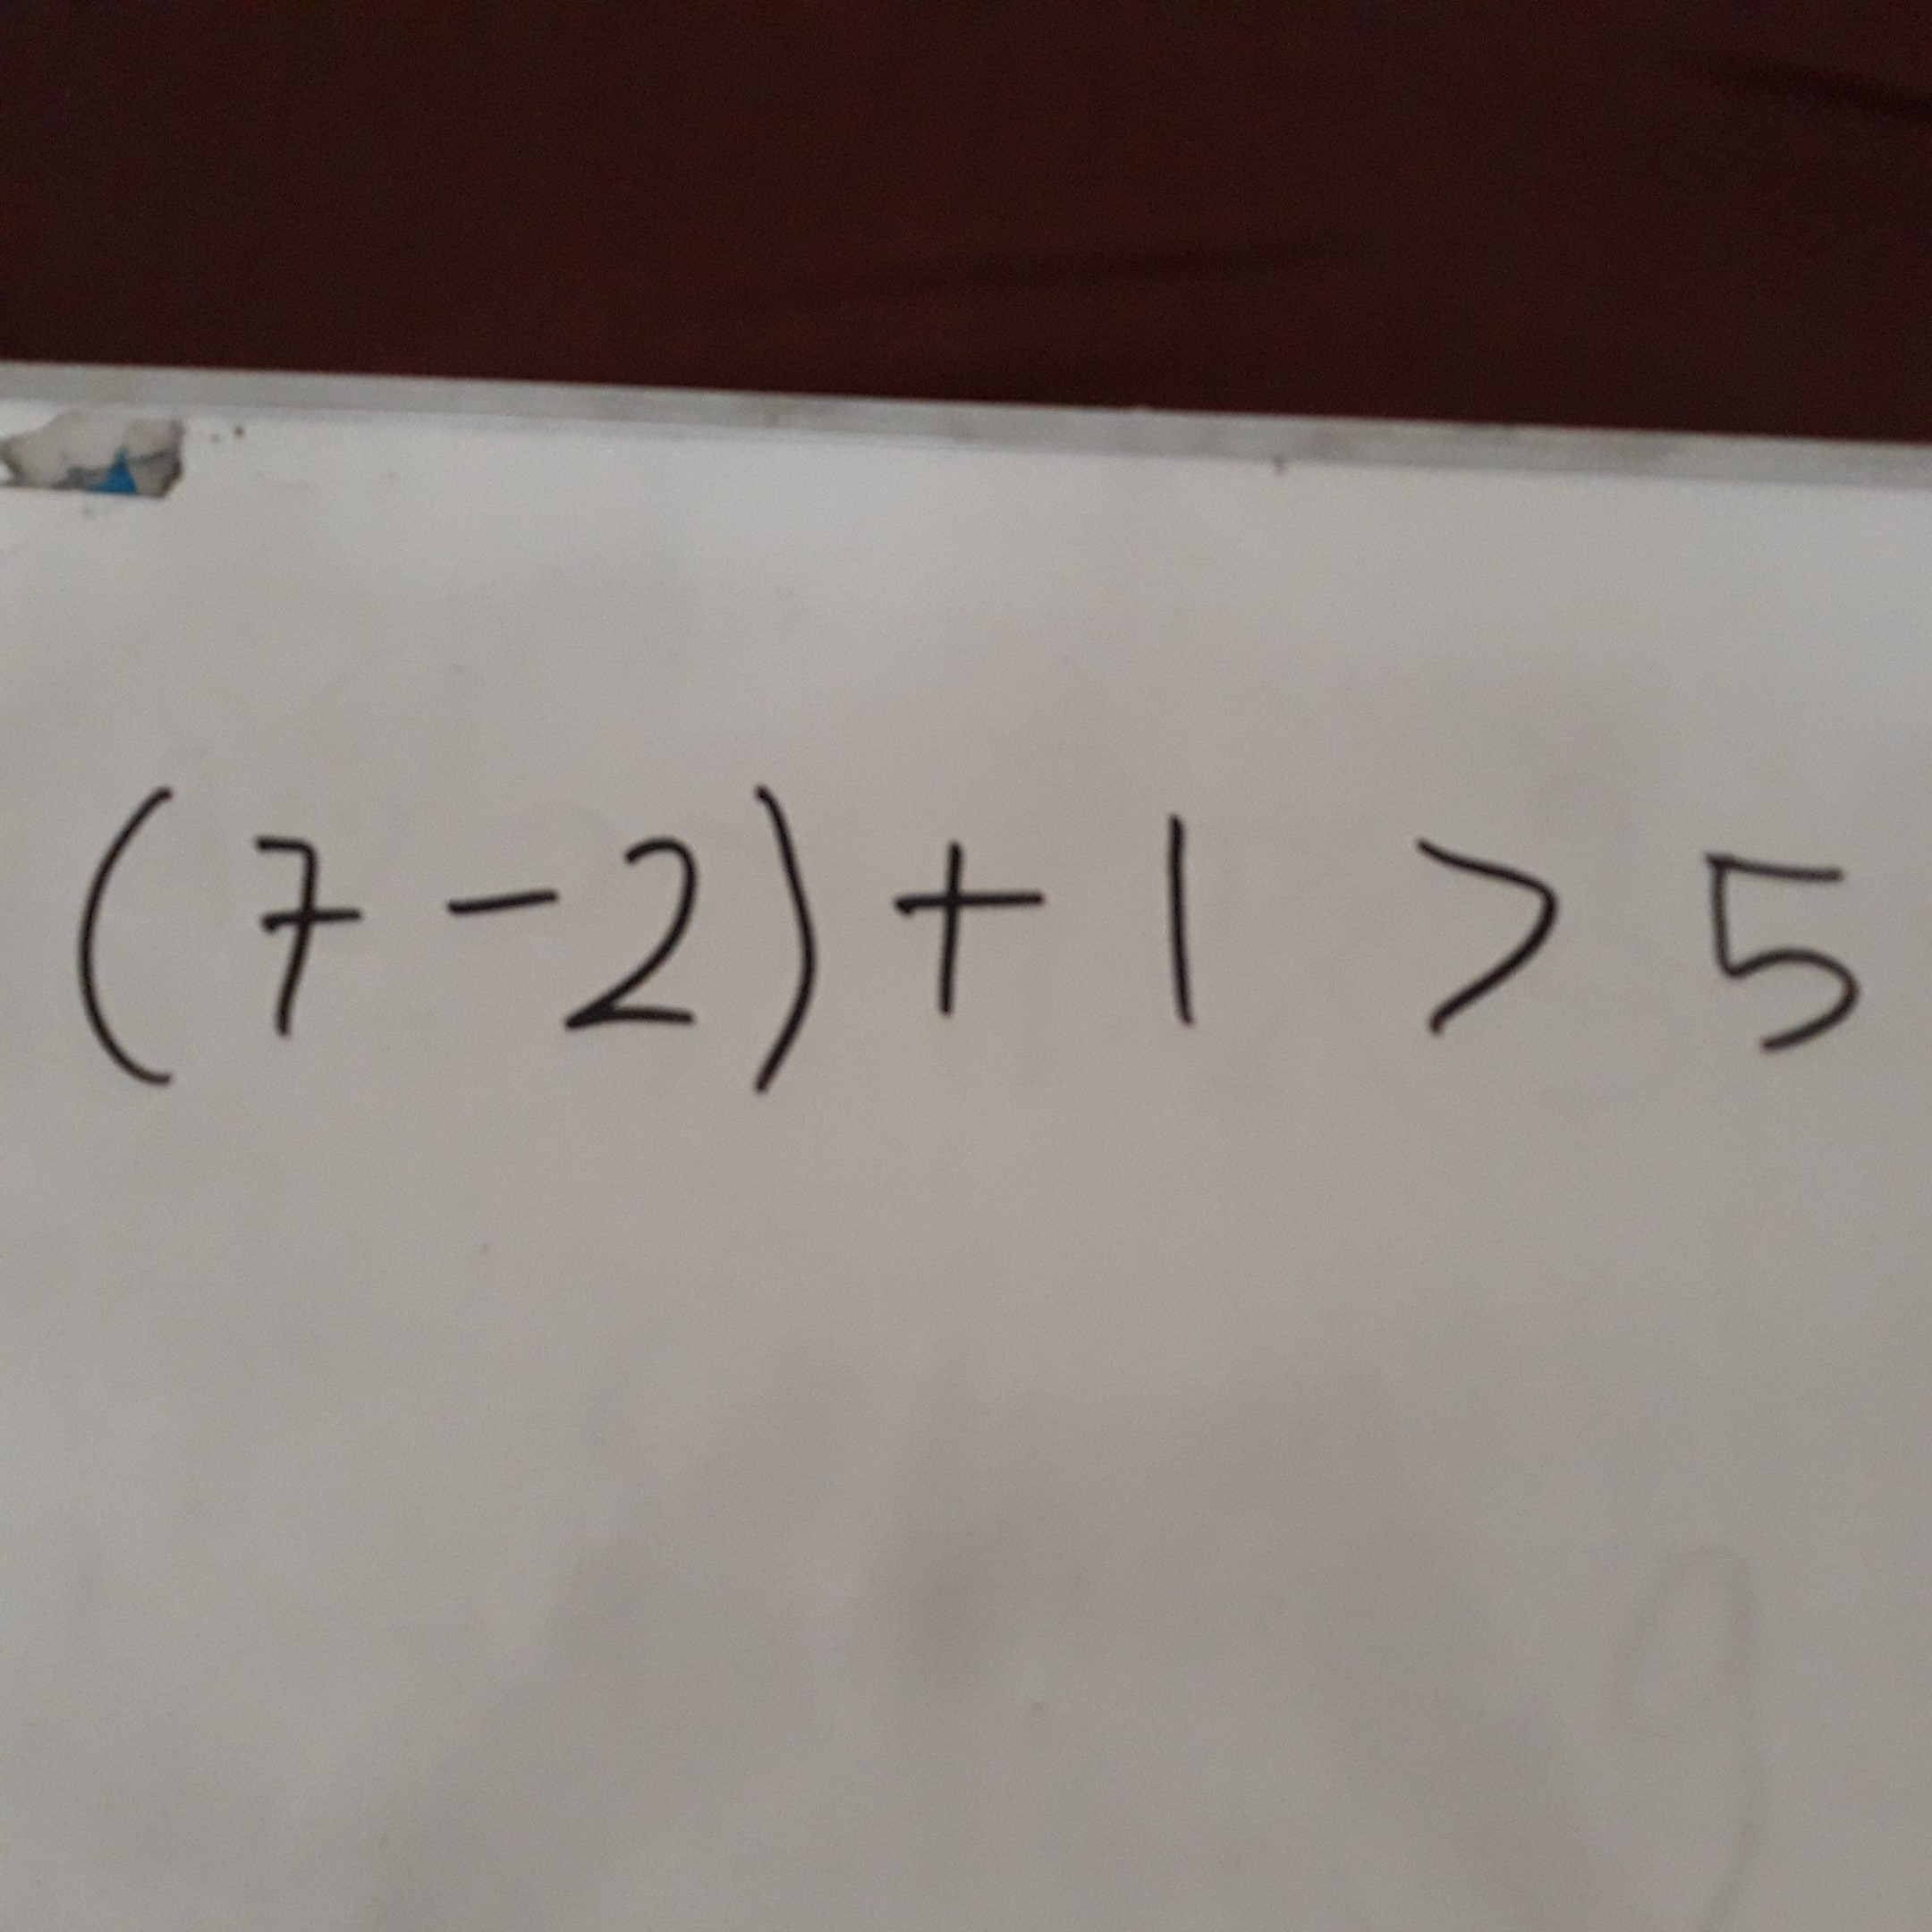closebracket: (736, 743, 843, 1150)
min: (427, 842, 581, 964)
morethan: (1387, 802, 1584, 1052)
num1: (1121, 799, 1234, 1050)
num2: (559, 812, 725, 1089)
num5: (1686, 828, 1883, 1078)
num7: (221, 815, 375, 1045)
openbracket: (56, 756, 203, 1107)
sum: (882, 814, 1066, 1031)
